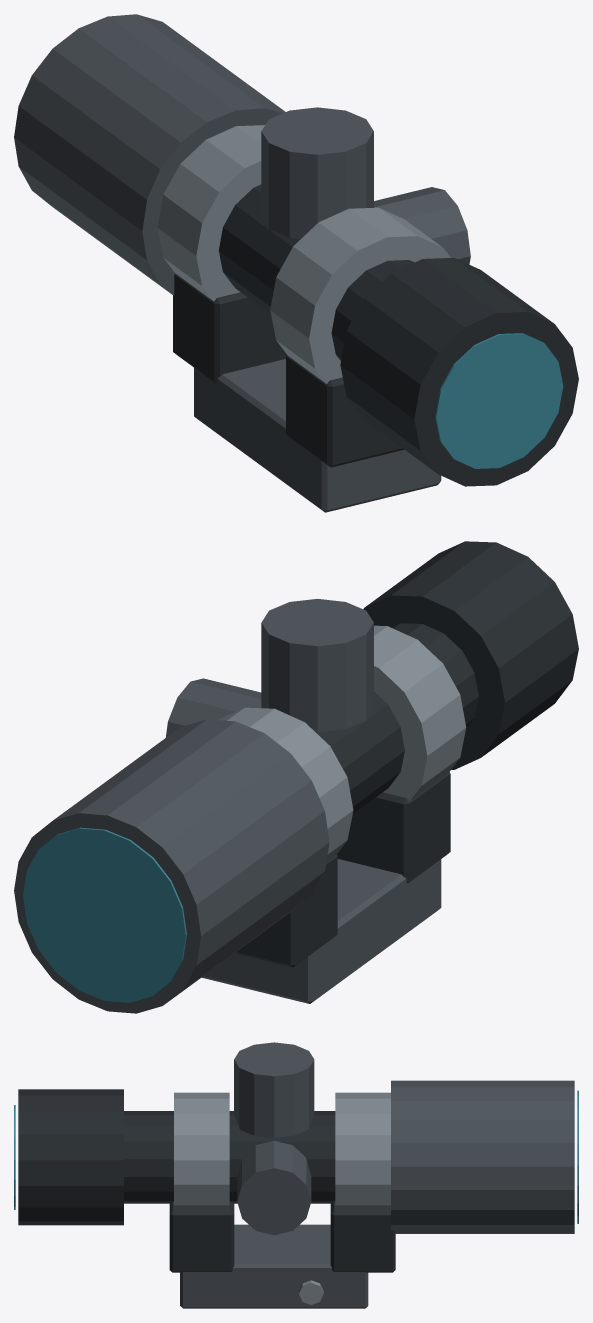
The model's file is att_optic_dove_scope.glb.
3 renders of one model, top to bottom at view 1: azimuth 30°, elevation 25°; view 2: azimuth 150°, elevation 25°; view 3: azimuth 270°, elevation 25°, orthographic. The views are drawn at different scales.
Parts seen in each view (by area): view 1: Geometry_att_optic_dove_scope; view 2: Geometry_att_optic_dove_scope; view 3: Geometry_att_optic_dove_scope.
Part boxes in pixels (bbox=[...]): Geometry_att_optic_dove_scope: bbox=[14, 14, 578, 512]; Geometry_att_optic_dove_scope: bbox=[14, 541, 578, 1013]; Geometry_att_optic_dove_scope: bbox=[14, 1042, 578, 1308].
Bounding box in the file's own units: 0.059 × 0.082 × 0.1829.
